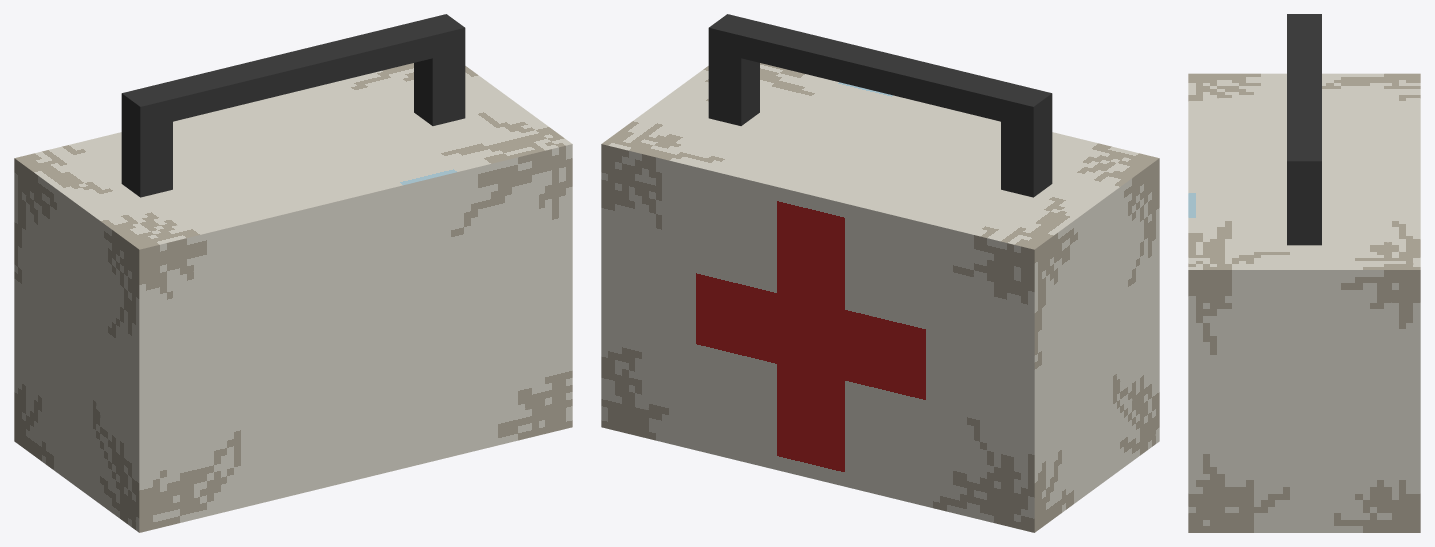
Rendered from medkit.gltf.
3 views of the same model, side by side, from view 1: azimuth 30°, elevation 25°; view 2: azimuth 150°, elevation 25°; view 3: azimuth 270°, elevation 25° (orthographic). The views are drawn at different scales.
Parts seen in each view (by area): view 1: Medkit-body, Handle; view 2: Medkit-body, Handle; view 3: Medkit-body, Handle.
Part boxes in pixels (<box>): Medkit-body: <box>14,63,572,532</box>; Handle: <box>121,14,465,197</box>; Medkit-body: <box>601,63,1159,532</box>; Handle: <box>708,14,1052,197</box>; Medkit-body: <box>1188,73,1420,532</box>; Handle: <box>1287,14,1321,245</box>.
Bounding box in the file's own units: 0.5 × 0.4125 × 0.25.
2 materials, 2 textured.
